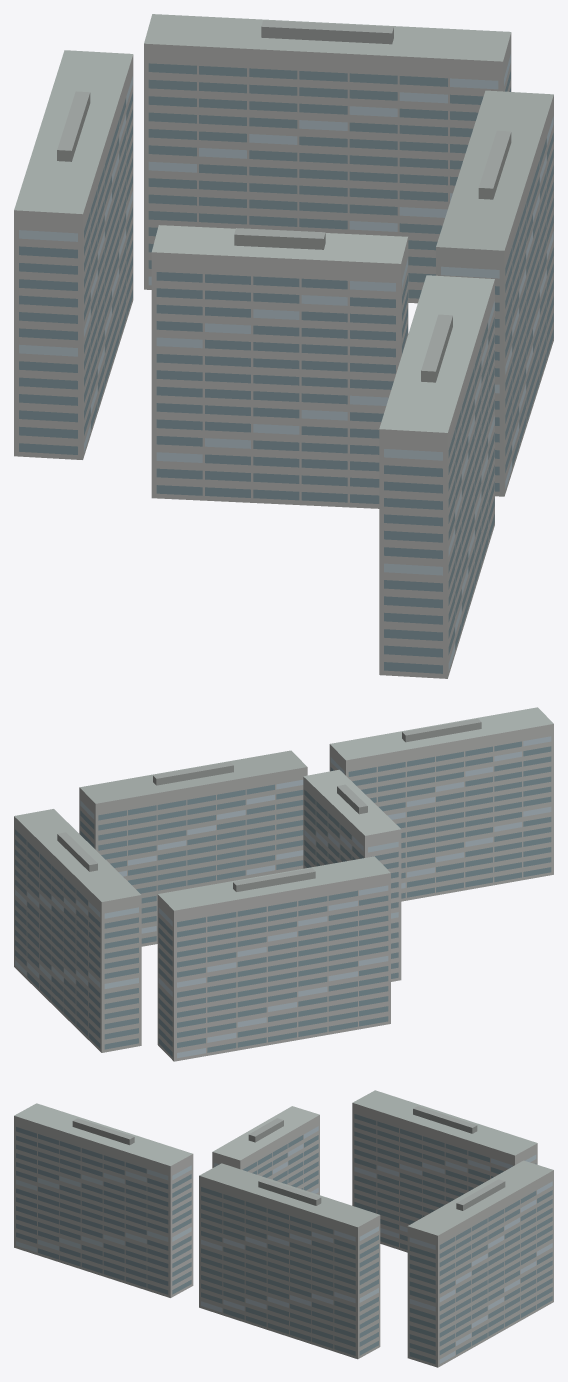
File: apt-a13790722.glb
3 views of the same model, one above another, from view 1: azimuth 30°, elevation 25°; view 2: azimuth 150°, elevation 25°; view 3: azimuth 270°, elevation 25° (orthographic). The views are drawn at different scales.
Visible parts, largest first — view 1: apt-a13790722; view 2: apt-a13790722; view 3: apt-a13790722.
Part boxes in pixels (x1,y1,x2,y2): apt-a13790722: (14, 14, 553, 678); apt-a13790722: (14, 707, 553, 1061); apt-a13790722: (14, 1090, 553, 1367).
Size of the model in its own units: 108 by 47.8 by 170.
